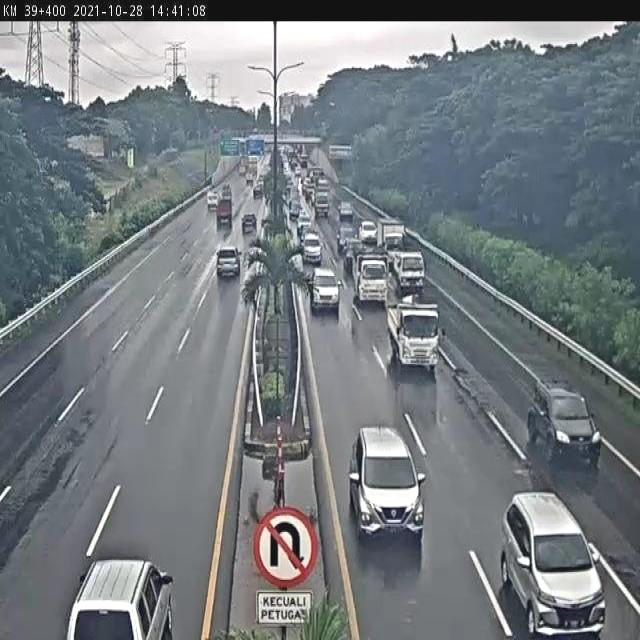Car: (495, 467, 603, 640), (349, 424, 427, 540), (65, 559, 175, 638), (528, 376, 601, 467), (309, 266, 341, 316), (216, 246, 240, 278), (302, 232, 323, 265), (241, 213, 257, 234)
Truck: (389, 299, 440, 374), (351, 248, 392, 314), (395, 246, 436, 296), (213, 186, 243, 227)
